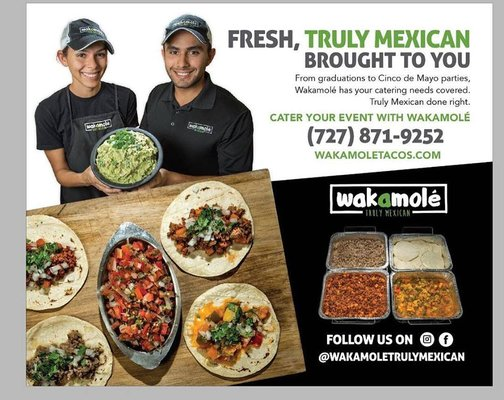curry: (19, 162, 477, 378)
sandwich: (98, 237, 177, 369), (182, 283, 280, 378), (162, 181, 254, 277), (26, 315, 114, 388), (26, 234, 82, 310), (319, 269, 389, 321), (392, 270, 463, 321)
